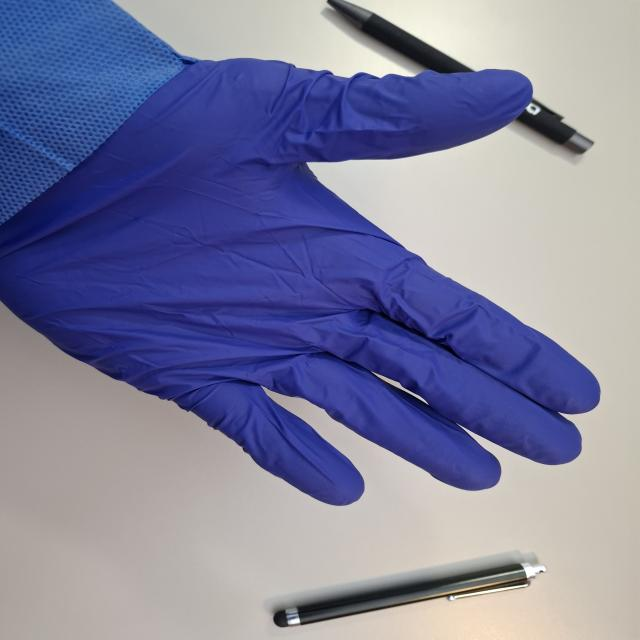glove_on: (0, 54, 602, 505)
